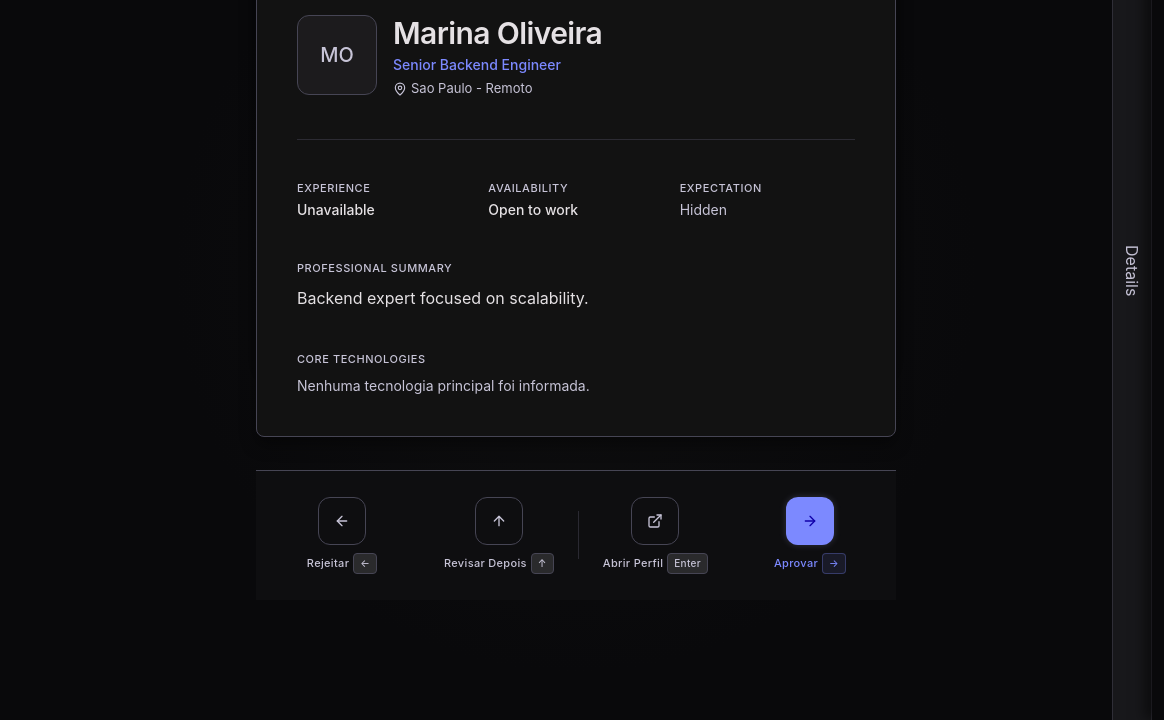
Test: CandidateSwipePage › approves the current candidate and advances to the next one
The image size is (1164, 720).
(page scrolled)
Expected: the heading "Marina Oliveira" is shown, [393,15,602,51]
Click the button "Aprovar →" at (810, 535), box [764,490,856,580]
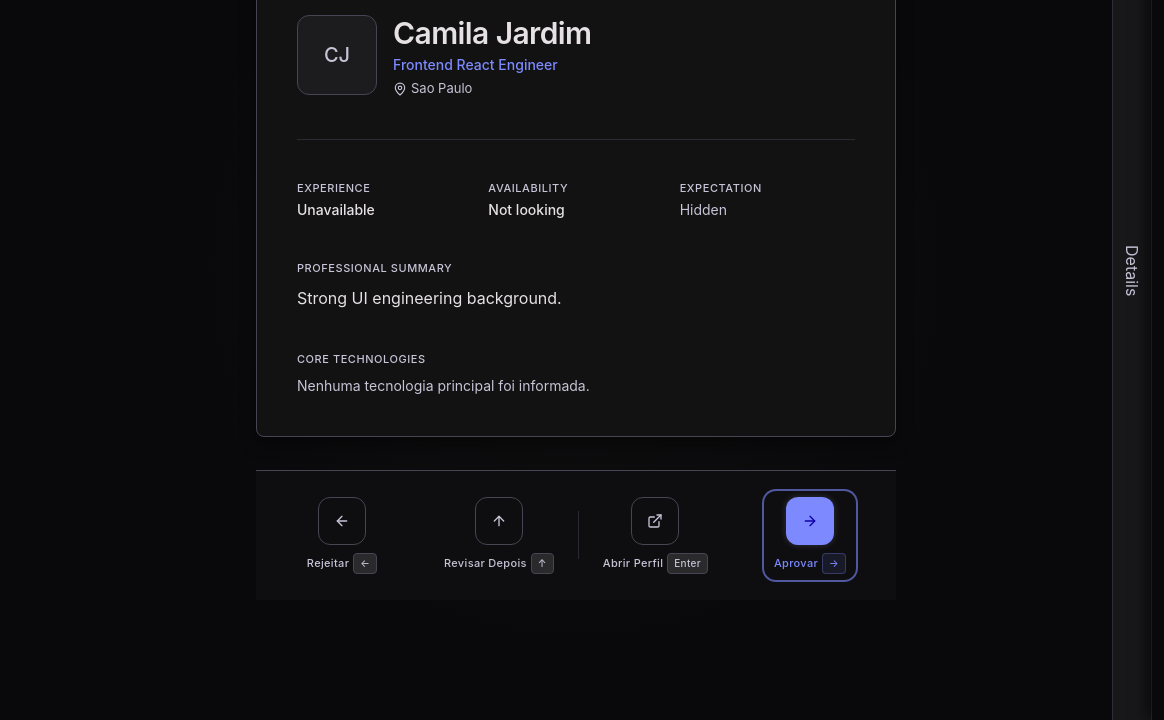
Expected: the heading "Camila Jardim" is shown, [393,15,592,51]
